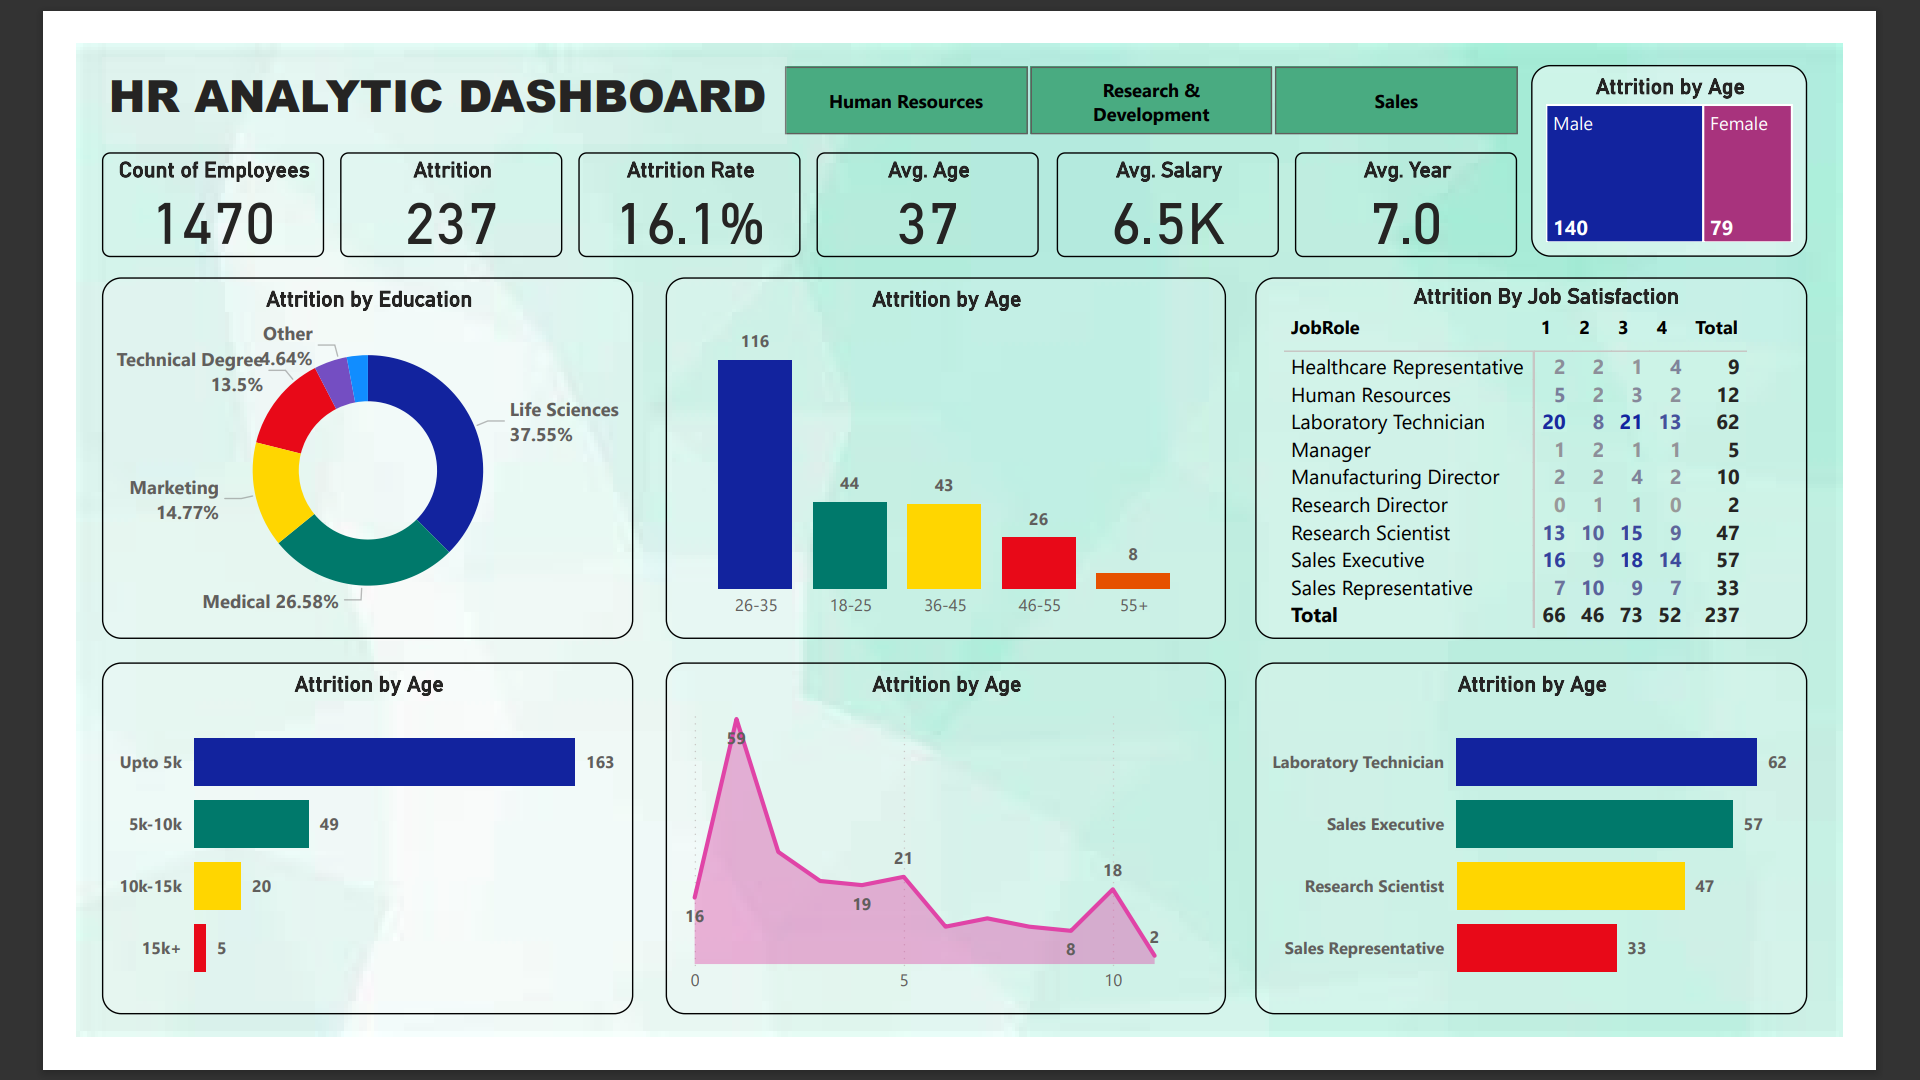

What the dashboard file says about the page in this screenshot:
{"tool":"powerbi","page":{"name":"Page 1","canvas":[1280,720],"ordinal":0},"visuals":[{"type":"card","title":"Count of Employees","fields":{"Values":["CountNonNull(HR_Analytics.EmpID)"]},"box":[19.2,78.6,161,76],"z":0},{"type":"card","title":"Attrition","fields":{"Values":["Sum(HR_Analytics.AttritionCount)"]},"box":[191.3,79.1,161.1,76.2],"z":1000},{"type":"card","title":"Attrition Rate","fields":{"Values":["HR_Analytics.AttritionRate"]},"box":[363.8,79.1,161.1,76.2],"z":2000},{"type":"card","title":"Avg. Age","fields":{"Values":["Avg(HR_Analytics.Age)"]},"box":[536.4,79.1,161.1,76.2],"z":3000},{"type":"card","title":"Avg. Salary","fields":{"Values":["Avg(HR_Analytics.MonthlyIncome)"]},"box":[710.4,79.1,161.1,76.2],"z":4000},{"type":"card","title":"Avg. Year","fields":{"Values":["Avg(HR_Analytics.YearsAtCompany)"]},"box":[883,79.1,161.1,76.2],"z":5000},{"type":"donutChart","title":"Attrition by Education","fields":{"Category":["HR_Analytics.EducationField"],"Y":["Sum(HR_Analytics.AttritionCount)"]},"box":[18.7,169.7,385.4,261.7],"z":6000},{"type":"clusteredColumnChart","title":"Attrition by Age","fields":{"Category":["HR_Analytics.AgeGroup"],"Y":["Sum(HR_Analytics.AttritionCount)"]},"box":[427.1,169.7,405.5,261.7],"z":7000},{"type":"pivotTable","title":"Attrition By Job Satisfaction","fields":{"Rows":["HR_Analytics.JobRole"],"Columns":["HR_Analytics.JobSatisfaction"],"Values":["Sum(HR_Analytics.AttritionCount)"]},"box":[854.2,169.7,399.8,261.7],"z":8000},{"type":"barChart","title":"Attrition by Age","fields":{"Category":["HR_Analytics.SalarySlab"],"Y":["Sum(HR_Analytics.AttritionCount)"]},"box":[18.7,448.7,385.4,254.5],"z":9000},{"type":"clusteredBarChart","title":"Attrition by Age","fields":{"Category":["HR_Analytics.JobRole"],"Y":["Sum(HR_Analytics.AttritionCount)"]},"box":[854.2,448.7,399.8,254.5],"z":10000},{"type":"areaChart","title":"Attrition by Age","fields":{"Category":["HR_Analytics.YearsAtCompany"],"Y":["Sum(HR_Analytics.AttritionCount)"]},"box":[427.1,448.7,405.5,254.5],"z":11000},{"type":"treemap","title":"Attrition by Age","fields":{"Group":["HR_Analytics.Gender"],"Values":["Sum(HR_Analytics.AttritionCount)"]},"box":[1054.1,15.8,199.9,139.5],"z":12000},{"type":"slicer","fields":{"Values":["HR_Analytics.Department"]},"box":[487.5,10.1,581,63.3],"z":13000},{"type":"textbox","box":[18.7,10.1,496.1,63.3],"z":14000}]}

Visuals, with their boxes in screenshot pixels (x1, y1, x2, y2), scaled from the page's 1280x720 canvas onto the 1920x1080 screenshot:
"Count of Employees" card: 29/118/270/232
"Attrition" card: 287/119/529/233
"Attrition Rate" card: 546/119/787/233
"Avg. Age" card: 805/119/1046/233
"Avg. Salary" card: 1066/119/1307/233
"Avg. Year" card: 1324/119/1566/233
"Attrition by Education" donutChart: 28/255/606/647
"Attrition by Age" clusteredColumnChart: 641/255/1249/647
"Attrition By Job Satisfaction" pivotTable: 1281/255/1881/647
"Attrition by Age" barChart: 28/673/606/1055
"Attrition by Age" clusteredBarChart: 1281/673/1881/1055
"Attrition by Age" areaChart: 641/673/1249/1055
"Attrition by Age" treemap: 1581/24/1881/233
slicer - HR_Analytics.Department: 731/15/1603/110
textbox: 28/15/772/110
